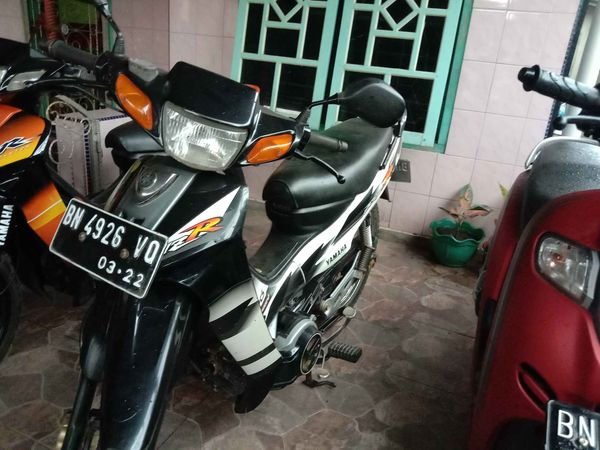plate: (58, 192, 165, 297)
